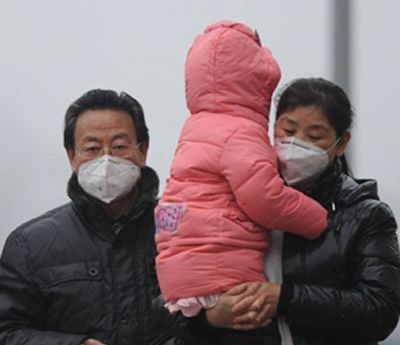face_mask: (73, 109, 141, 199), (274, 103, 338, 182)
